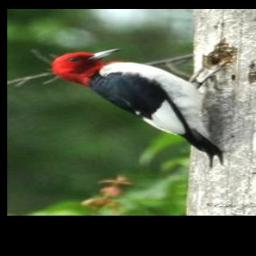Woodpecker: (50, 47, 221, 166)
